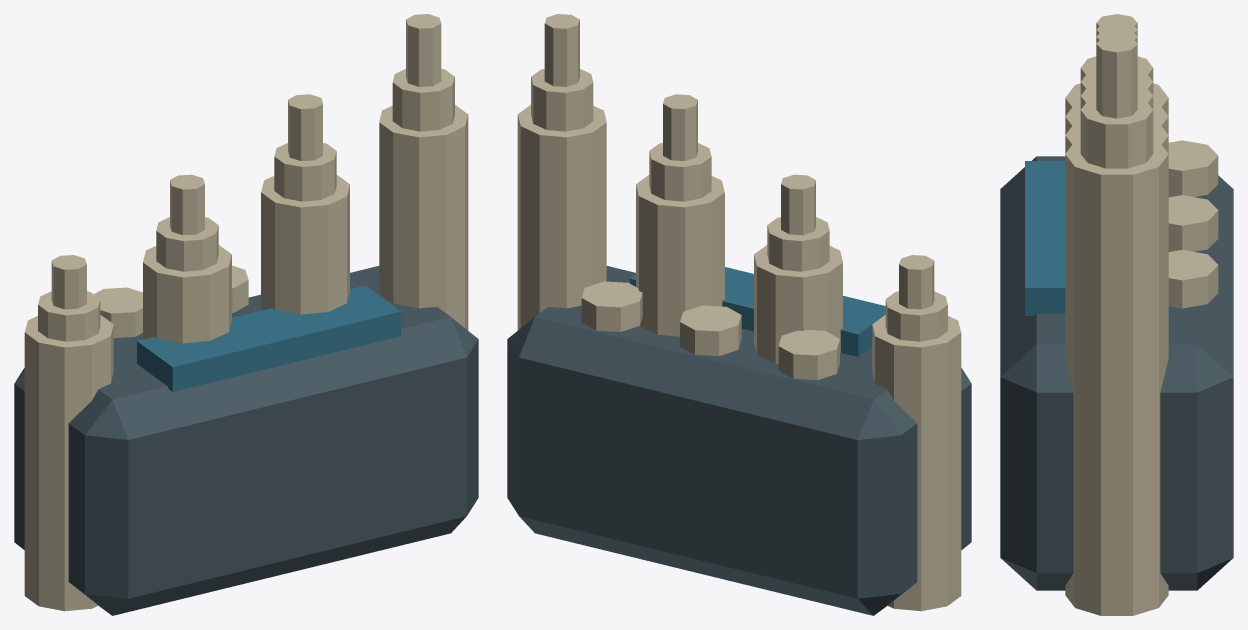
Rendered from set_pipette_stand.glb.
The picture shows the model from 3 angles, left to right: view 1: azimuth 30°, elevation 25°; view 2: azimuth 150°, elevation 25°; view 3: azimuth 270°, elevation 25°; orthographic projection. The views are drawn at different scales.
Visible parts, largest first — view 1: set_pipette_stand; view 2: set_pipette_stand; view 3: set_pipette_stand.
Part boxes in pixels (x1=…): set_pipette_stand: x1=14, y1=14, x2=478, y2=615; set_pipette_stand: x1=507, y1=14, x2=971, y2=615; set_pipette_stand: x1=1000, y1=14, x2=1233, y2=615.
Bounding box in the file's own units: 0.218 × 0.235 × 0.09.
